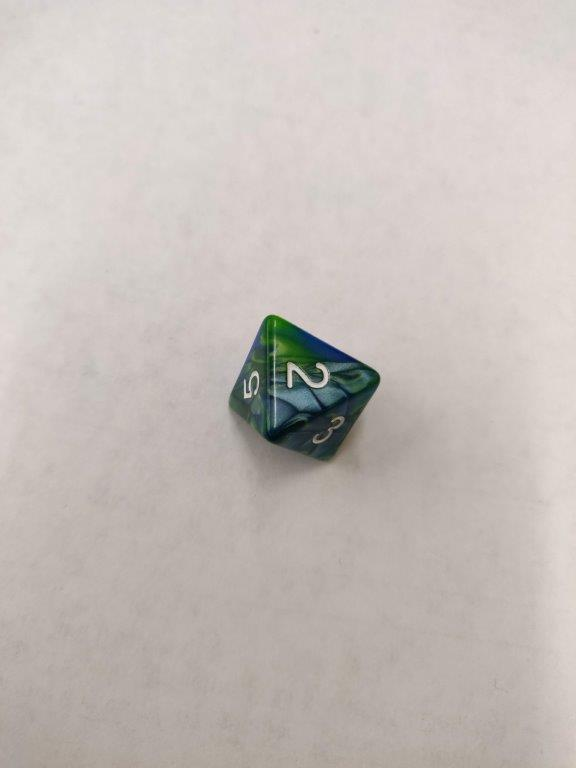d8-2: (227, 315, 382, 467)
